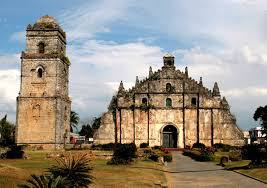Environmental Damage: (57, 54, 75, 69), (137, 102, 156, 111), (42, 23, 59, 32), (165, 100, 174, 108)
Paoay Church: (17, 15, 248, 150)
